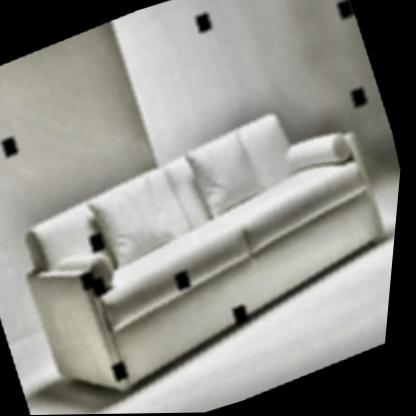Sofa: (0, 84, 410, 411)
